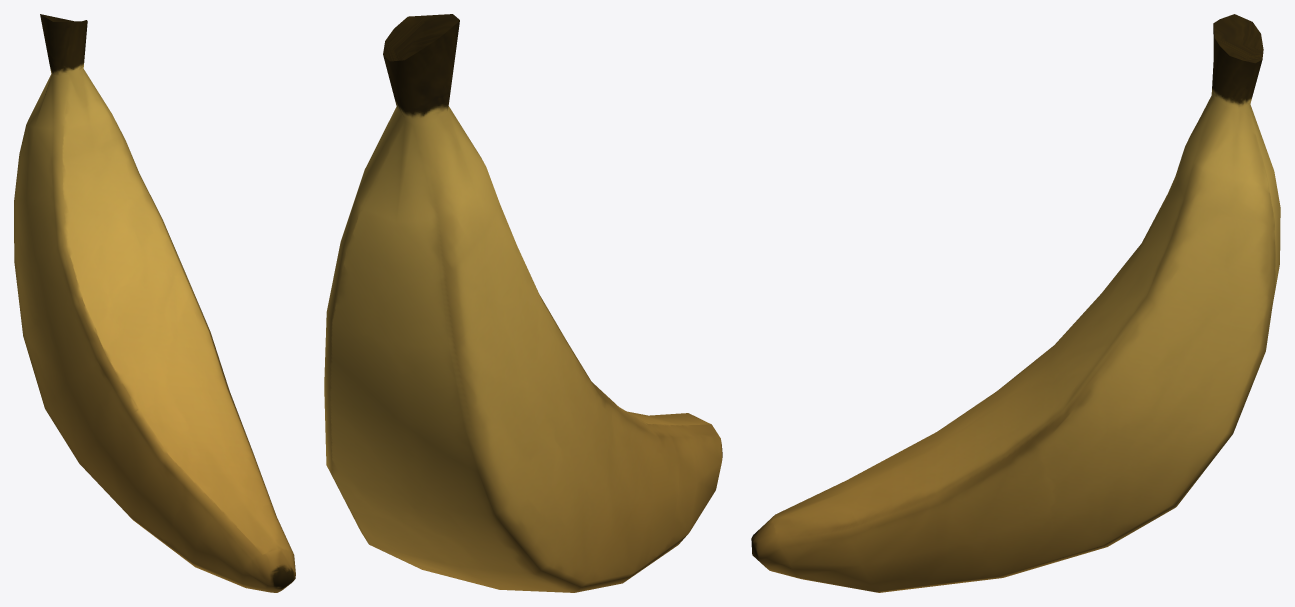
Rendered from banana.fbx.
3 renders of one model, left to right at view 1: azimuth 30°, elevation 25°; view 2: azimuth 150°, elevation 25°; view 3: azimuth 270°, elevation 25°, orthographic. The views are drawn at different scales.
Parts seen in each view (by area): view 1: banana.004; view 2: banana.004; view 3: banana.004.
Boxes of the visible parts, box(x1,y1,x2,y2) form: banana.004: box(14, 14, 295, 592); banana.004: box(324, 14, 722, 592); banana.004: box(751, 14, 1280, 592).
Bounding box in the file's own units: 3.89 × 11.66 × 13.3.
Materials: 1 (1 with a texture image).
